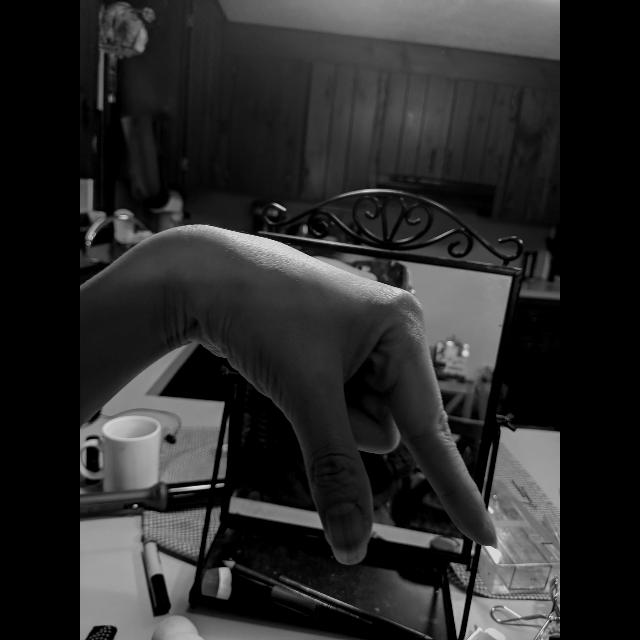Q: (186, 218, 504, 570)
